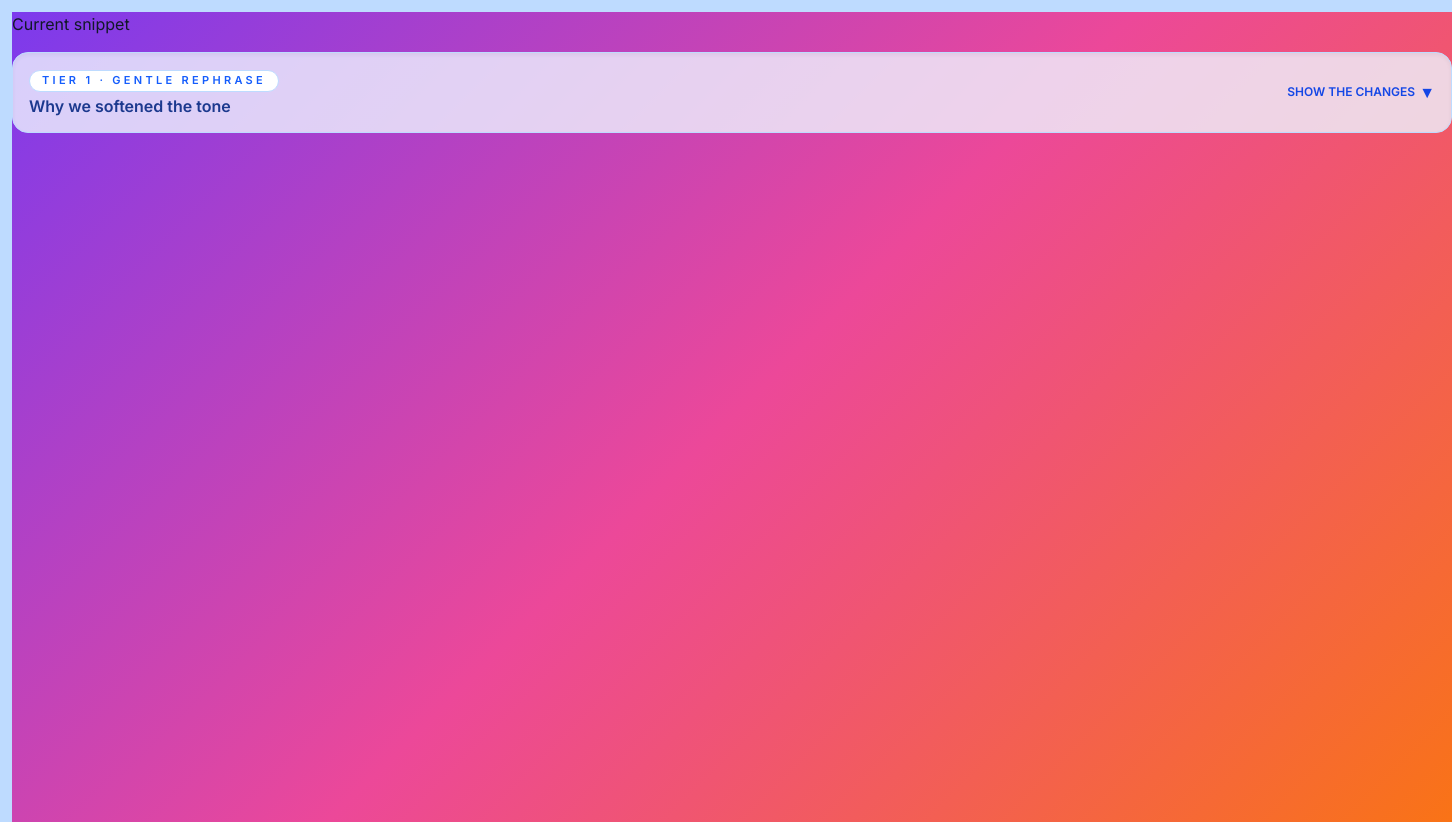
Scenario: ReframeExplanation › keeps the snippet visible when the explanation expands
Click the heading.
click(154, 81)  # box [29, 69, 1435, 116]
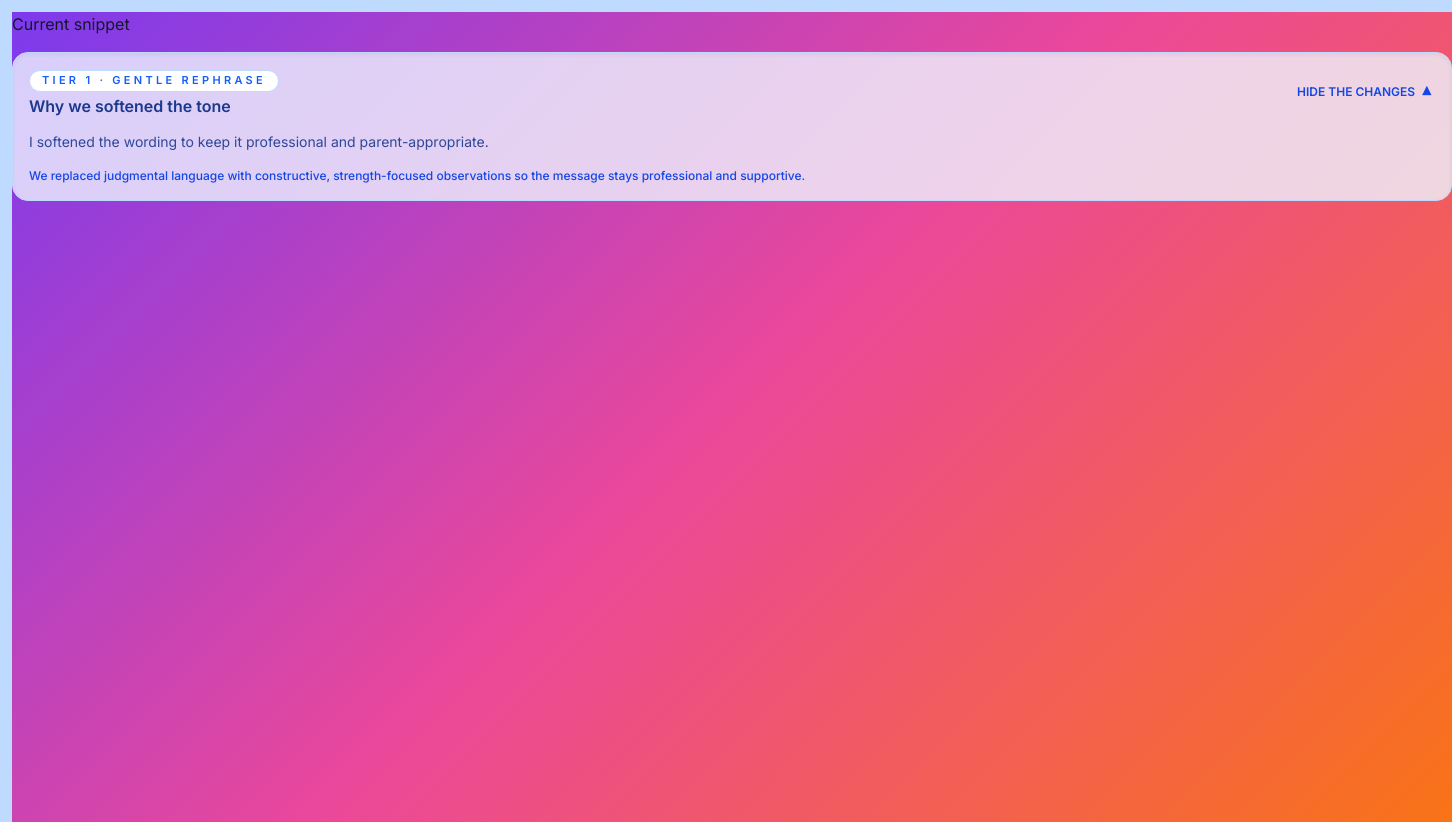
expect the text "Current snippet" is shown: met, box [12, 14, 130, 34]
expect the element with test id "reframe-explanation" has attribute open: met, box [12, 52, 1451, 201]
